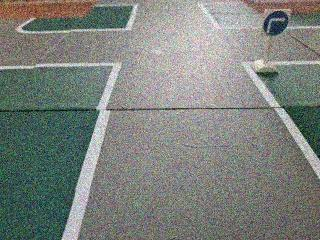right: (259, 2, 295, 40)
